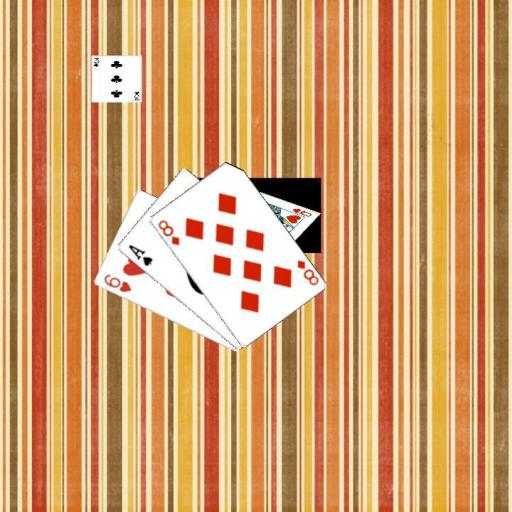6H: (101, 271, 133, 294)
8D: (154, 217, 181, 247), (294, 257, 320, 287)
AS: (125, 241, 154, 267)
